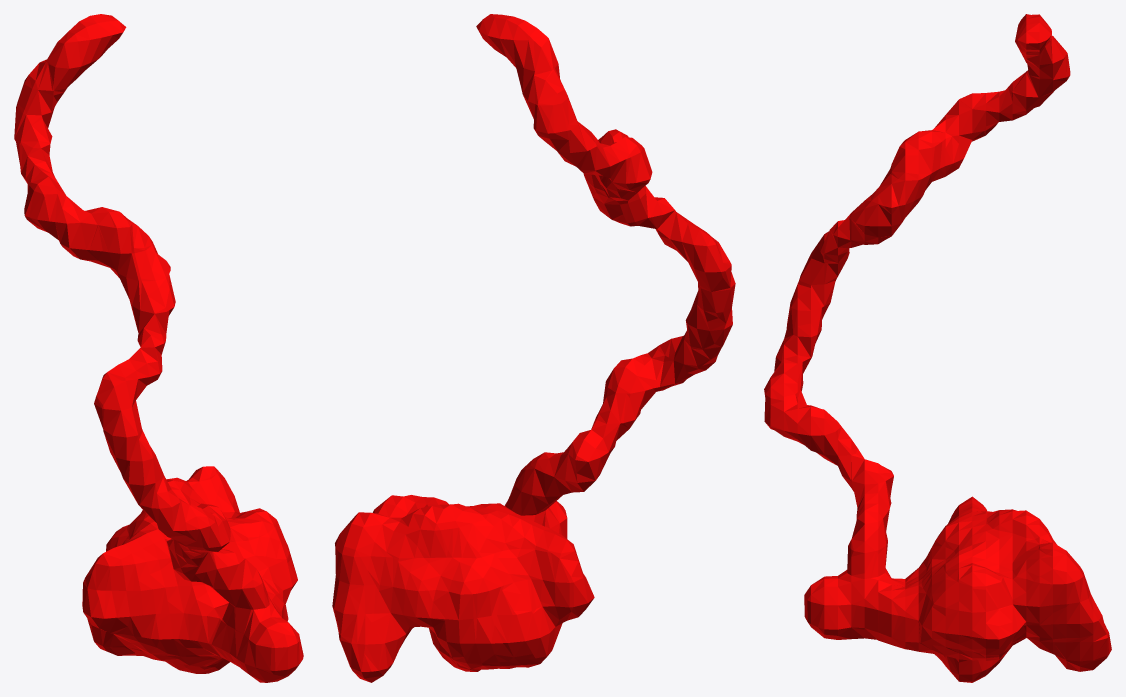
Rendered from lepB_coarse.dae.
3 renders of one model, left to right at view 1: azimuth 30°, elevation 25°; view 2: azimuth 150°, elevation 25°; view 3: azimuth 270°, elevation 25°, orthographic. The views are drawn at different scales.
Parts seen in each view (by area): view 1: lepB; view 2: lepB; view 3: lepB.
Part boxes in pixels (box(x1,y1,x2,y2)): lepB: box(14, 14, 303, 682); lepB: box(332, 14, 735, 682); lepB: box(764, 14, 1111, 682).
Bounding box in the file's own units: 74.26 × 170 × 85.35.
